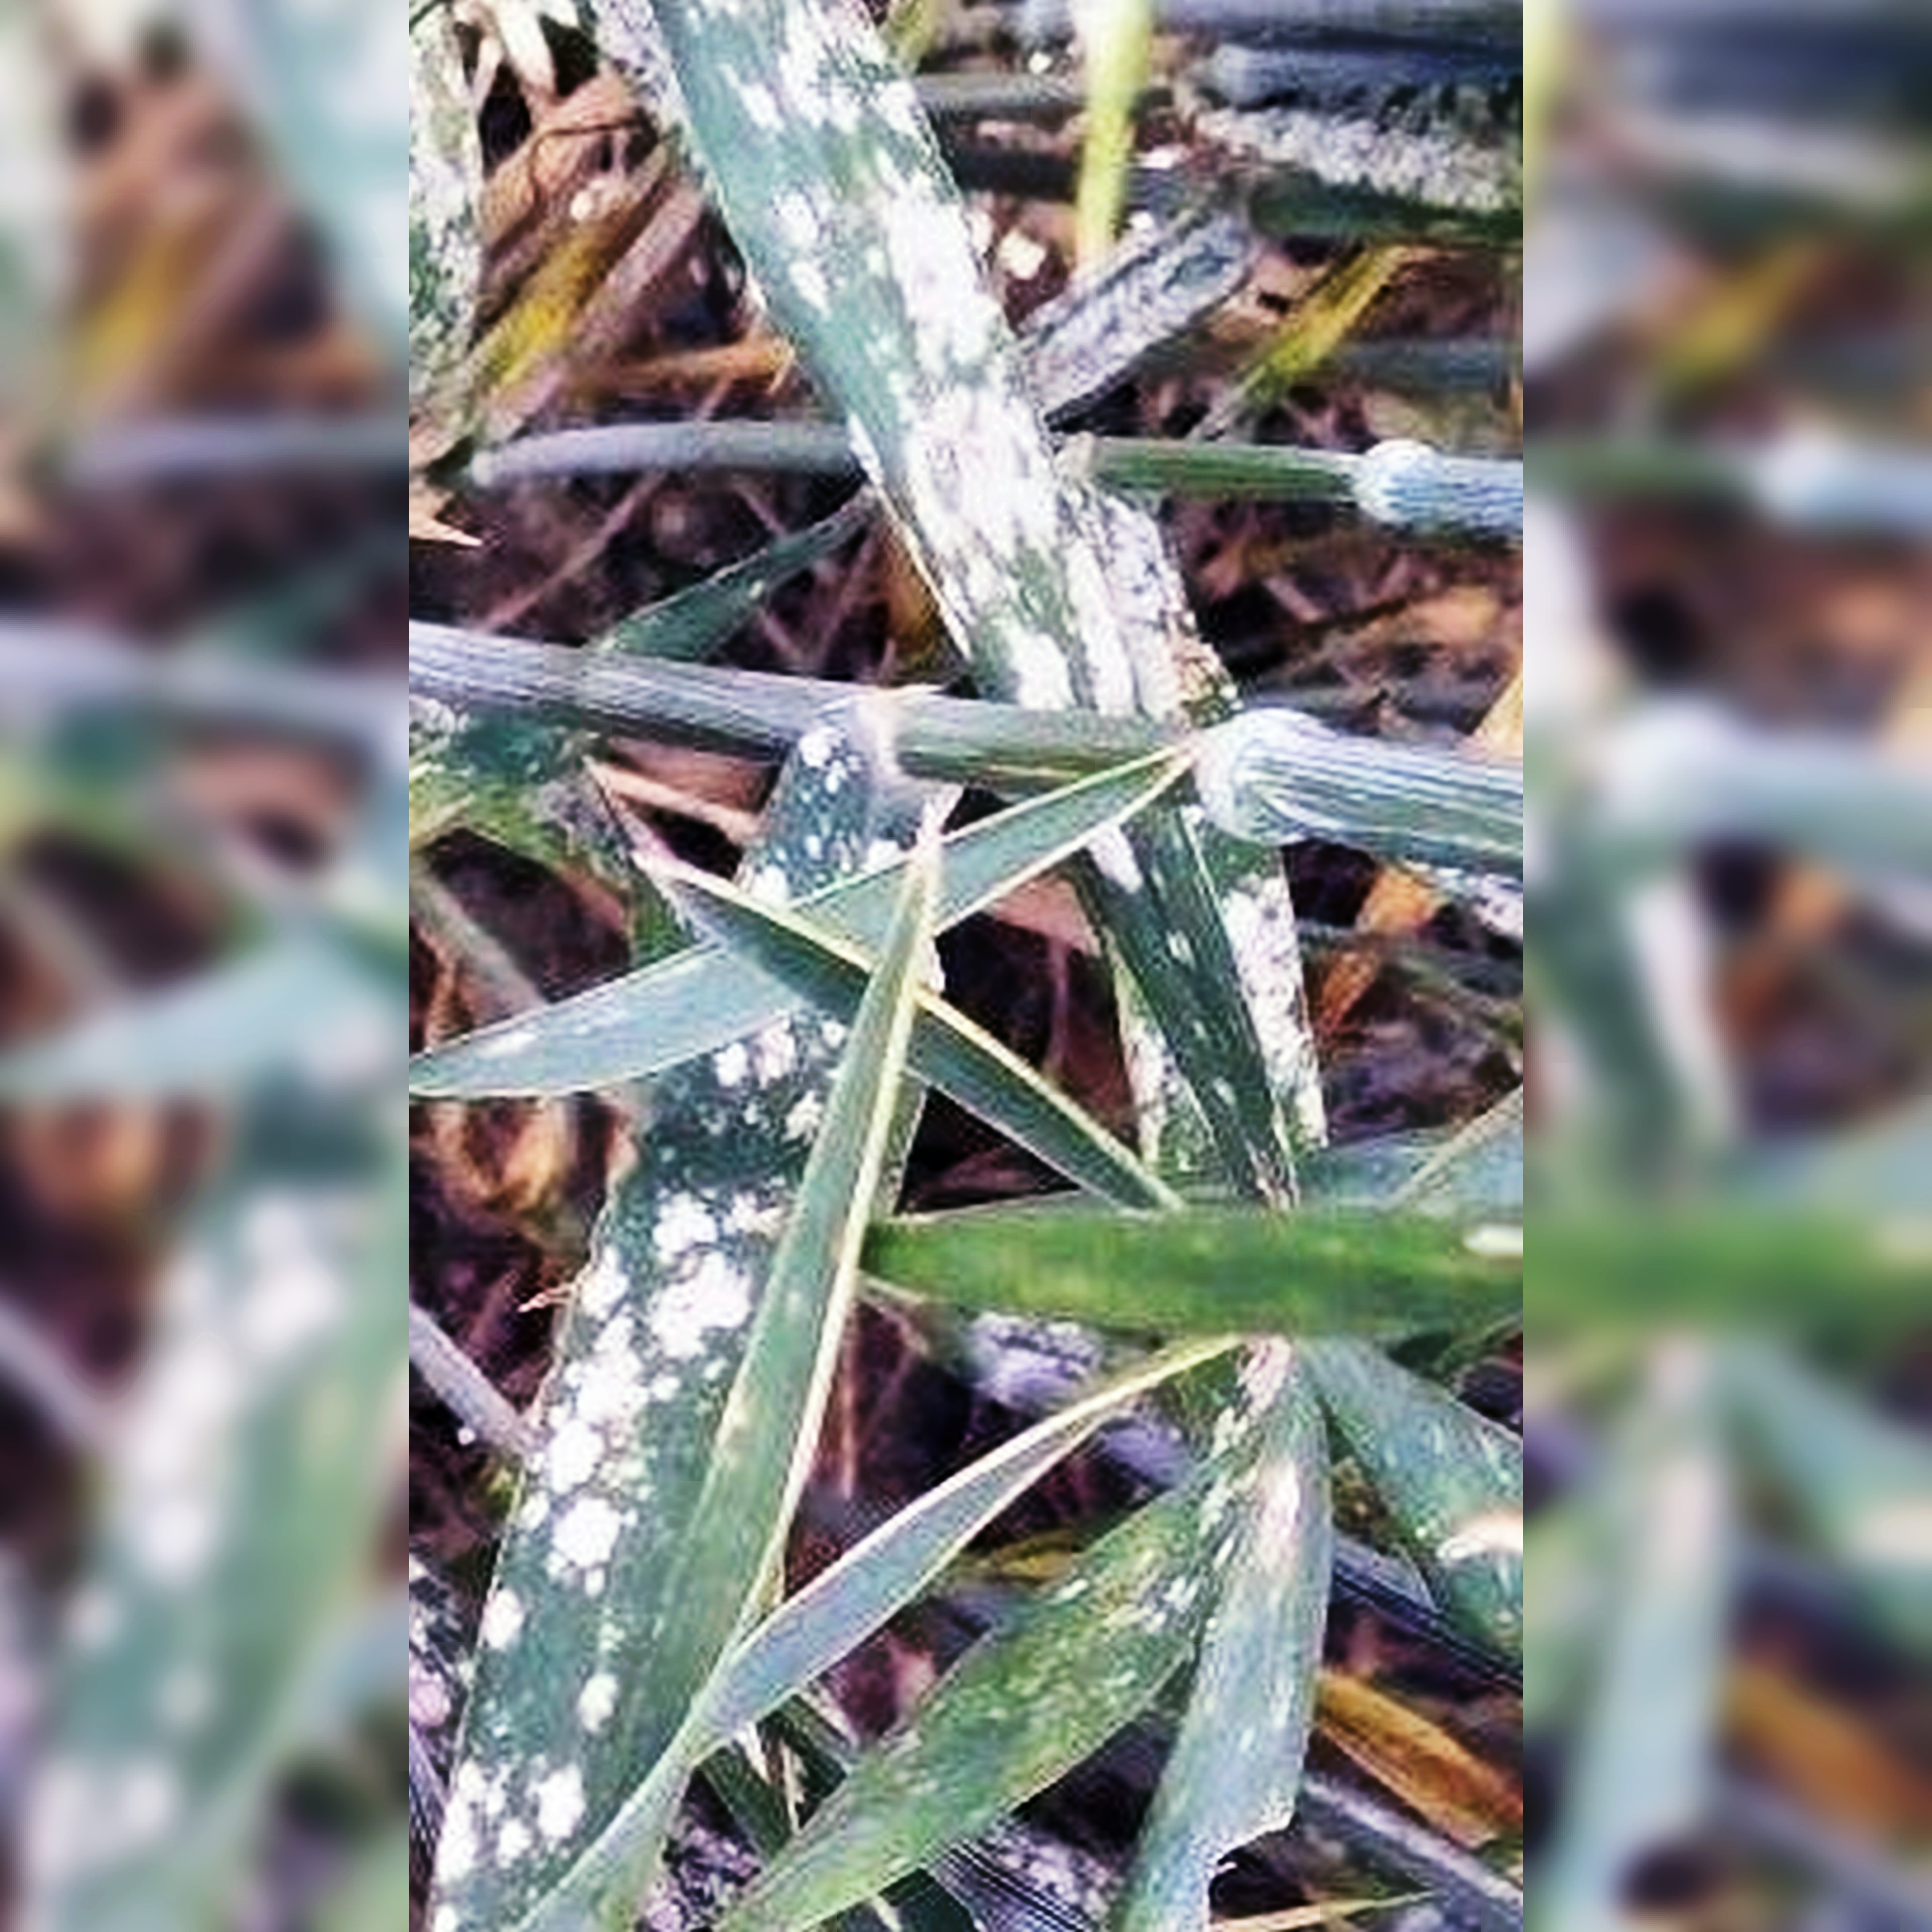Powdery Mildew: (409, 998, 886, 1882)
